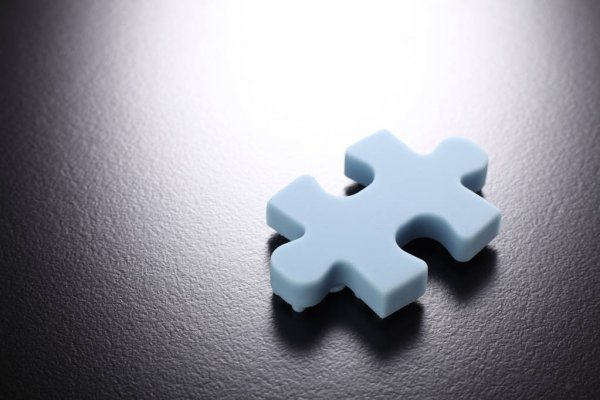puzzle piece: (240, 98, 527, 339)
